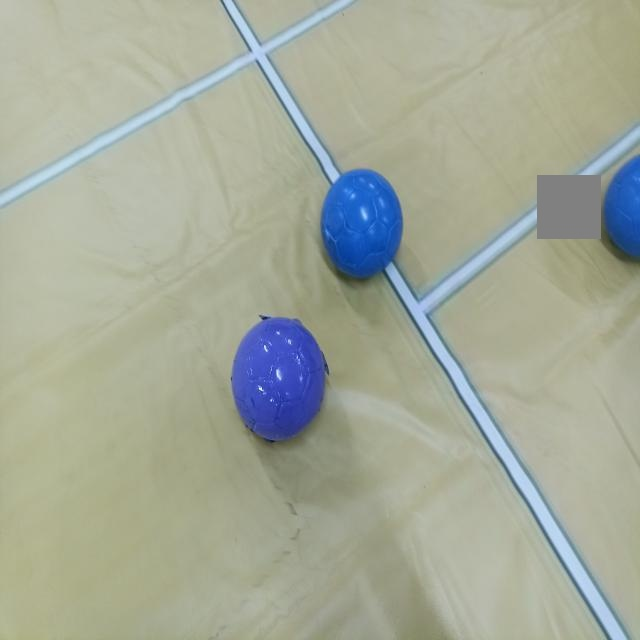blue_ball: (322, 169, 402, 274), (608, 155, 640, 265)
purple_ball: (232, 319, 323, 441)
